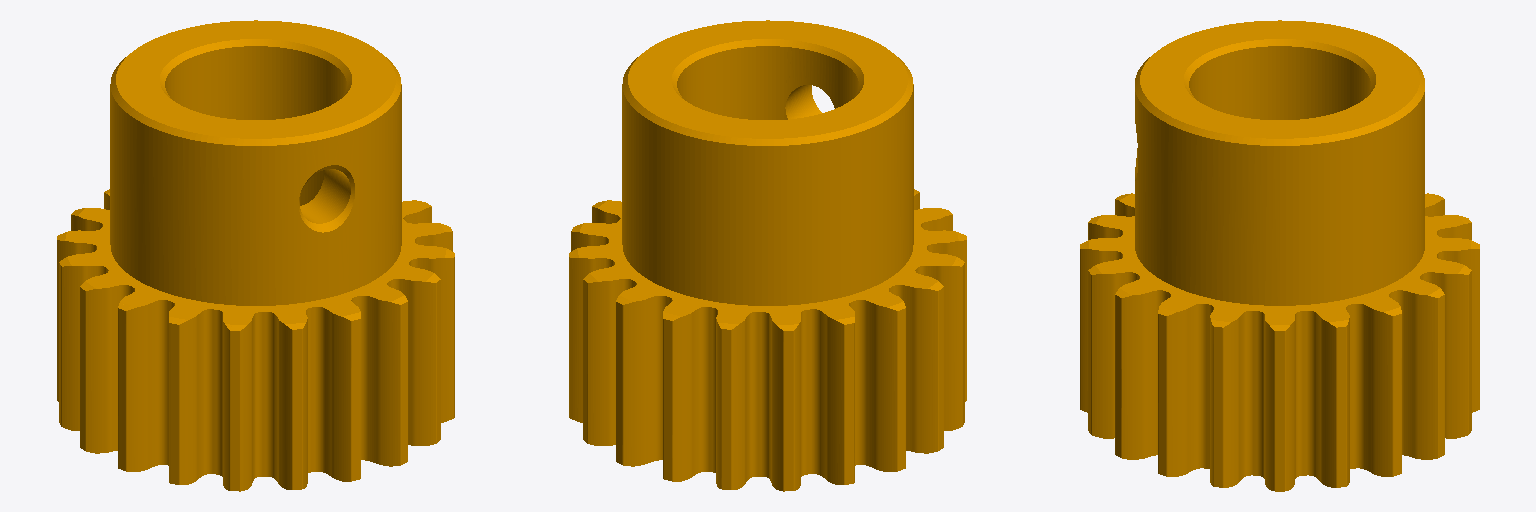
URDF robot description (industreal_gear_small):
<?xml version="1.0"?>
<robot name="industreal_gear_small">
    <link name="industreal_gear_small">
        <visual>
            <geometry>
                <mesh filename="../mesh/industreal_gears/industreal_gear_small.obj"/>
            </geometry>
        </visual>
        <collision>
            <geometry>
                <mesh filename="../mesh/industreal_gears/industreal_gear_small.obj"/>
            </geometry>
            <sdf resolution="256"/>
        </collision>
    </link>
</robot>

--- Render facts (derived) ---
Views: 3 orthographic renders of the robot side by side, from view 1: azimuth 30°, elevation 25°; view 2: azimuth 150°, elevation 25°; view 3: azimuth 270°, elevation 25°.
Robot: industreal_gear_small — 1 links, 0 joints (none); root link industreal_gear_small; default pose: all joints at 0.
Visible links, largest first — view 1: industreal_gear_small; view 2: industreal_gear_small; view 3: industreal_gear_small.
Boxes of the visible links, <box> form: industreal_gear_small: <box>57,20,454,491</box>; industreal_gear_small: <box>569,20,966,491</box>; industreal_gear_small: <box>1080,20,1479,491</box>.
Size in the robot's own frame: 0.022 by 0.022 by 0.02 metres.
1 mesh visuals loaded from 1 distinct referenced files (1 OBJ).